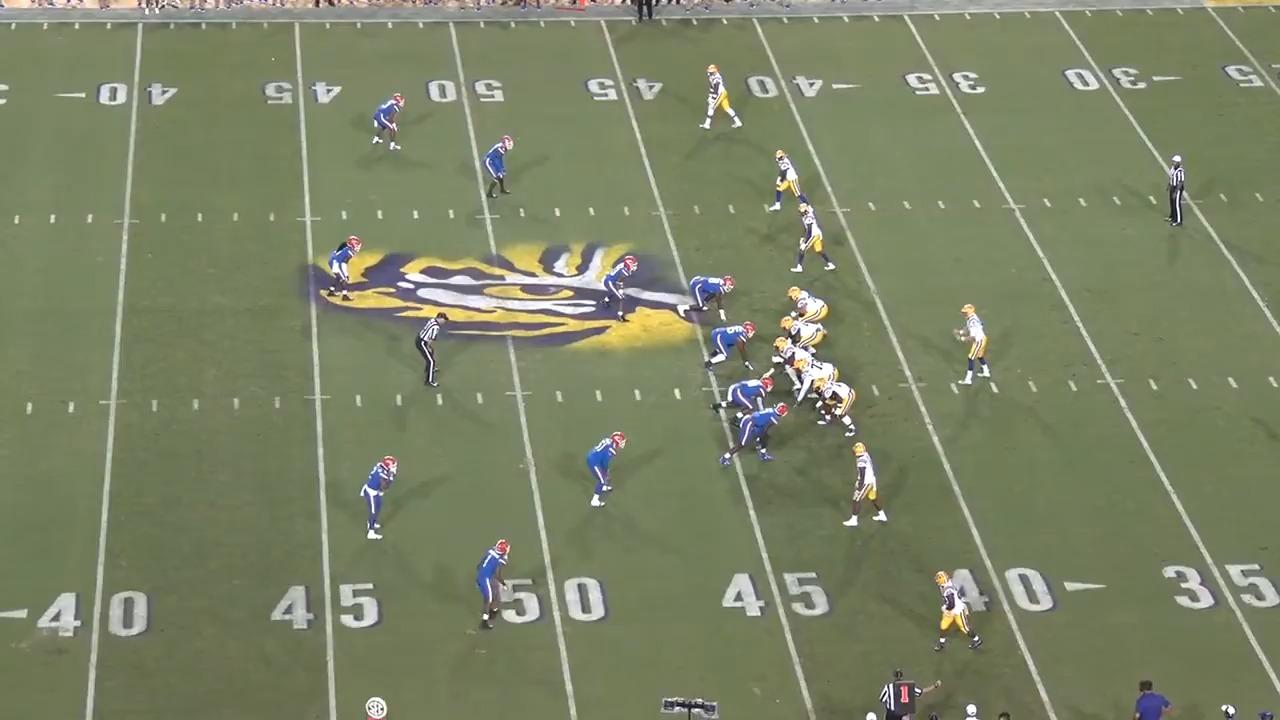player: (929, 565, 986, 656), (841, 441, 894, 535), (720, 404, 790, 469), (789, 200, 842, 276), (474, 539, 516, 632), (581, 431, 627, 513), (362, 456, 405, 543), (955, 303, 995, 391), (697, 60, 743, 133), (766, 146, 811, 215), (676, 272, 737, 321), (700, 322, 757, 374), (815, 377, 861, 438), (601, 252, 641, 322), (325, 235, 365, 304), (709, 377, 770, 420), (793, 356, 839, 412), (768, 337, 814, 393), (366, 92, 405, 156), (482, 133, 517, 201), (784, 286, 830, 336), (777, 314, 823, 355)
ref: (411, 310, 452, 393), (1165, 152, 1194, 233), (631, 0, 661, 26)
